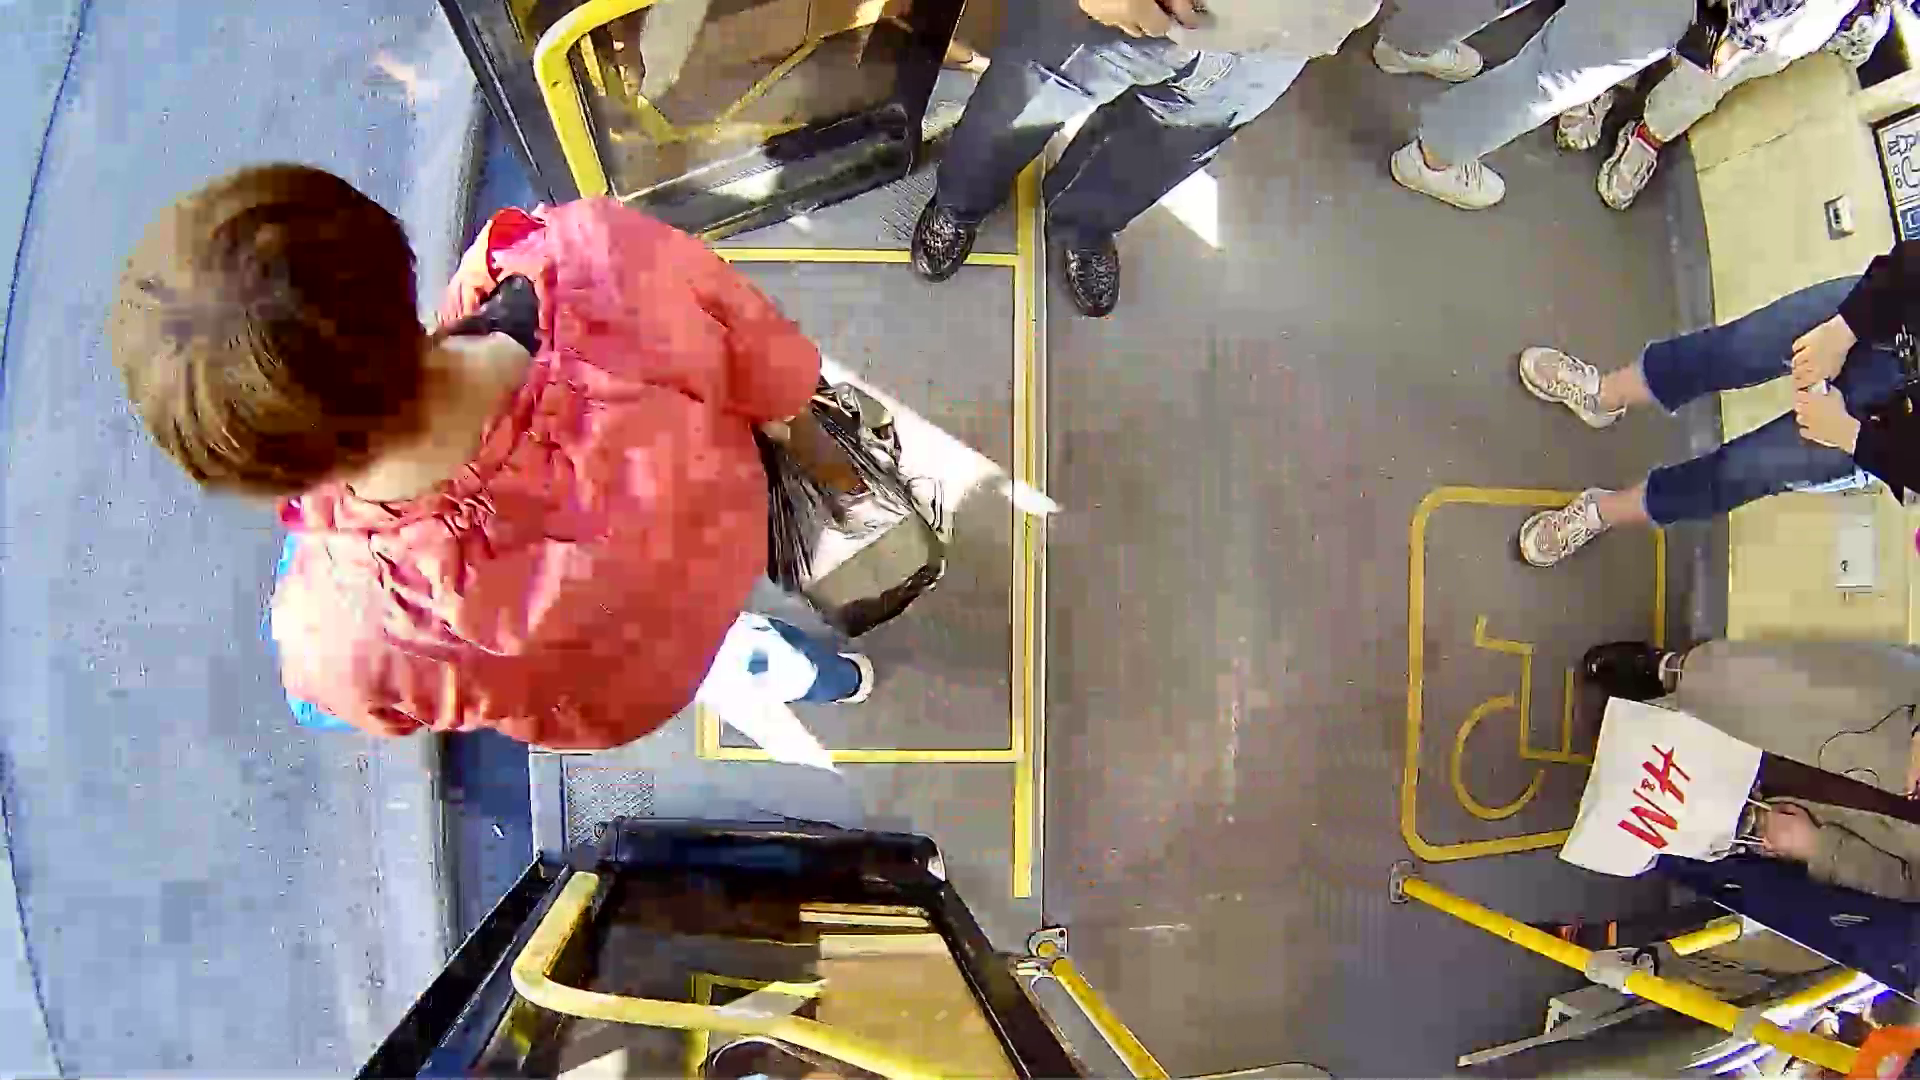person: (125, 132, 1014, 772)
